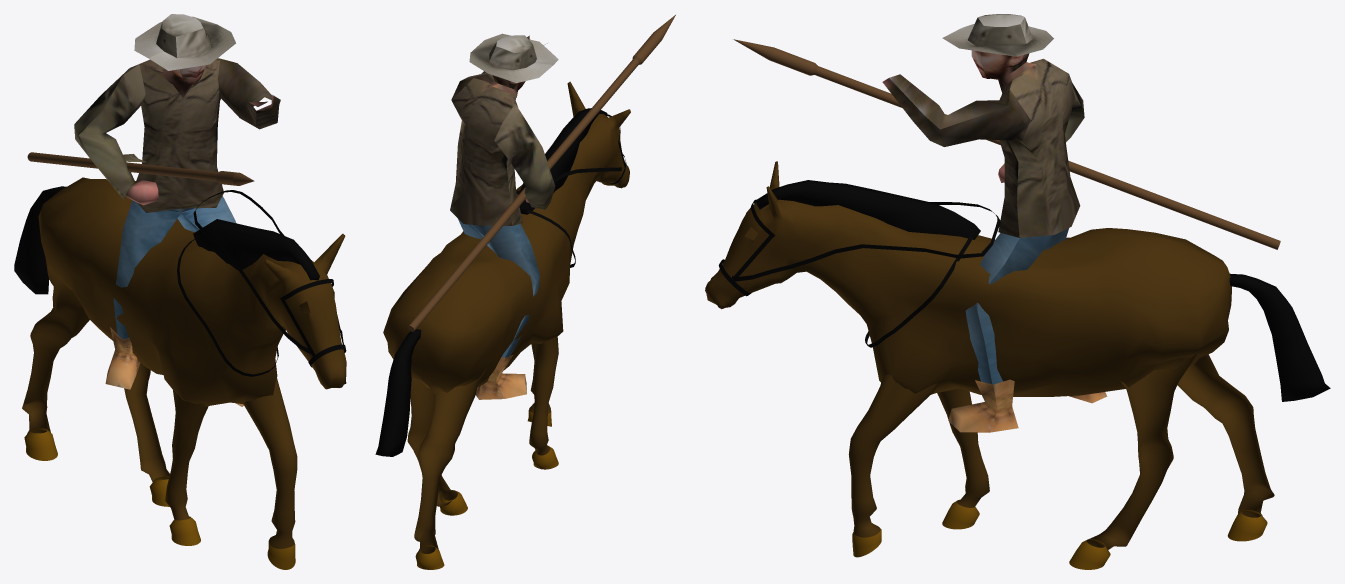
File: Horsemen.glb
The picture shows the model from 3 angles, left to right: view 1: azimuth 30°, elevation 25°; view 2: azimuth 150°, elevation 25°; view 3: azimuth 270°, elevation 25°; orthographic projection. The views are drawn at different scales.
Visible parts, largest first — view 1: horse body, Man.002, rigth rear leg, front left leg, tail.001, right front leg, left rear leg, tail, spear, Circle.003, hoof.003, hoof.002 (+4 smaller); view 2: horse body, Man.002, rigth rear leg, spear, tail, right front leg, left rear leg, tail.001, hoof.003, hoof.004, hoof.002; view 3: horse body, Man.002, left rear leg, tail.001, rigth rear leg, front left leg, tail, spear, right front leg, Circle.003, hoof.003, hoof.004.
Boxes of the visible parts, x1=… form: horse body: x1=38, y1=177, x2=346, y2=406; Man.002: x1=74, y1=14, x2=280, y2=406; rigth rear leg: x1=22, y1=259, x2=89, y2=434; front left leg: x1=243, y1=378, x2=297, y2=548; tail.001: x1=193, y1=219, x2=319, y2=280; right front leg: x1=165, y1=390, x2=208, y2=520; left rear leg: x1=124, y1=363, x2=169, y2=481; tail: x1=14, y1=186, x2=66, y2=294; spear: x1=27, y1=152, x2=254, y2=185; Circle.003: x1=193, y1=190, x2=343, y2=354; hoof.003: x1=24, y1=428, x2=57, y2=460; hoof.002: x1=169, y1=516, x2=200, y2=545; horse body: x1=383, y1=81, x2=630, y2=393; Man.002: x1=450, y1=33, x2=558, y2=399; rigth rear leg: x1=414, y1=357, x2=494, y2=553; spear: x1=407, y1=15, x2=675, y2=331; tail: x1=375, y1=329, x2=421, y2=456; right front leg: x1=529, y1=337, x2=558, y2=469; left rear leg: x1=387, y1=343, x2=457, y2=506; tail.001: x1=518, y1=108, x2=607, y2=214; hoof.003: x1=415, y1=545, x2=444, y2=569; hoof.004: x1=440, y1=490, x2=467, y2=515; hoof.002: x1=532, y1=445, x2=558, y2=469; horse body: x1=705, y1=161, x2=1231, y2=396; Man.002: x1=882, y1=14, x2=1107, y2=432; left rear leg: x1=1086, y1=350, x2=1199, y2=550; tail.001: x1=756, y1=180, x2=980, y2=239; rigth rear leg: x1=1177, y1=354, x2=1274, y2=517; front left leg: x1=848, y1=353, x2=938, y2=537; tail: x1=1229, y1=273, x2=1330, y2=401; spear: x1=733, y1=39, x2=1280, y2=249; right front leg: x1=937, y1=388, x2=989, y2=507; Circle.003: x1=732, y1=202, x2=1000, y2=281; hoof.003: x1=1227, y1=510, x2=1267, y2=541; hoof.004: x1=1069, y1=539, x2=1110, y2=569.
Bounding box in the file's own units: 0.6134 × 2.1 × 2.23.
5 materials, 1 textured.
